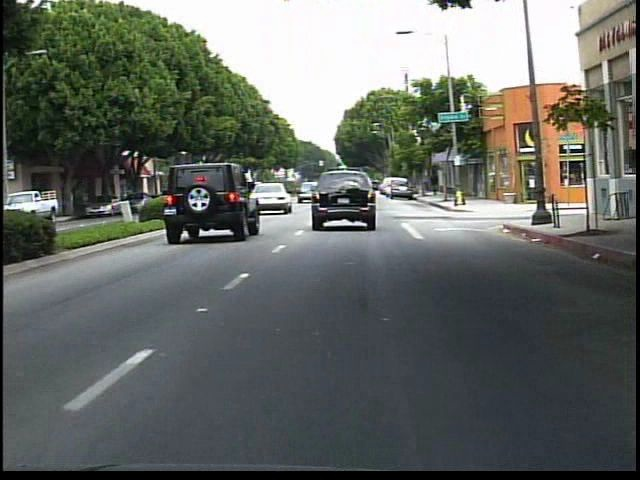person: (425, 165, 446, 202)
